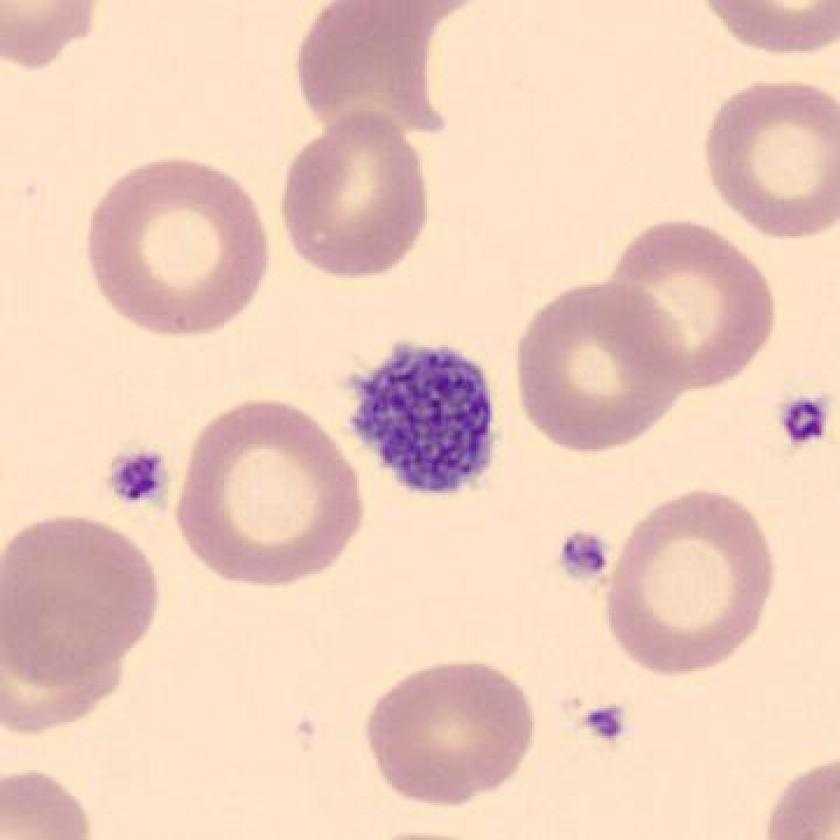platelets: (339, 332, 505, 515), (101, 436, 183, 529), (769, 380, 836, 464), (547, 520, 617, 594), (575, 691, 640, 758)
